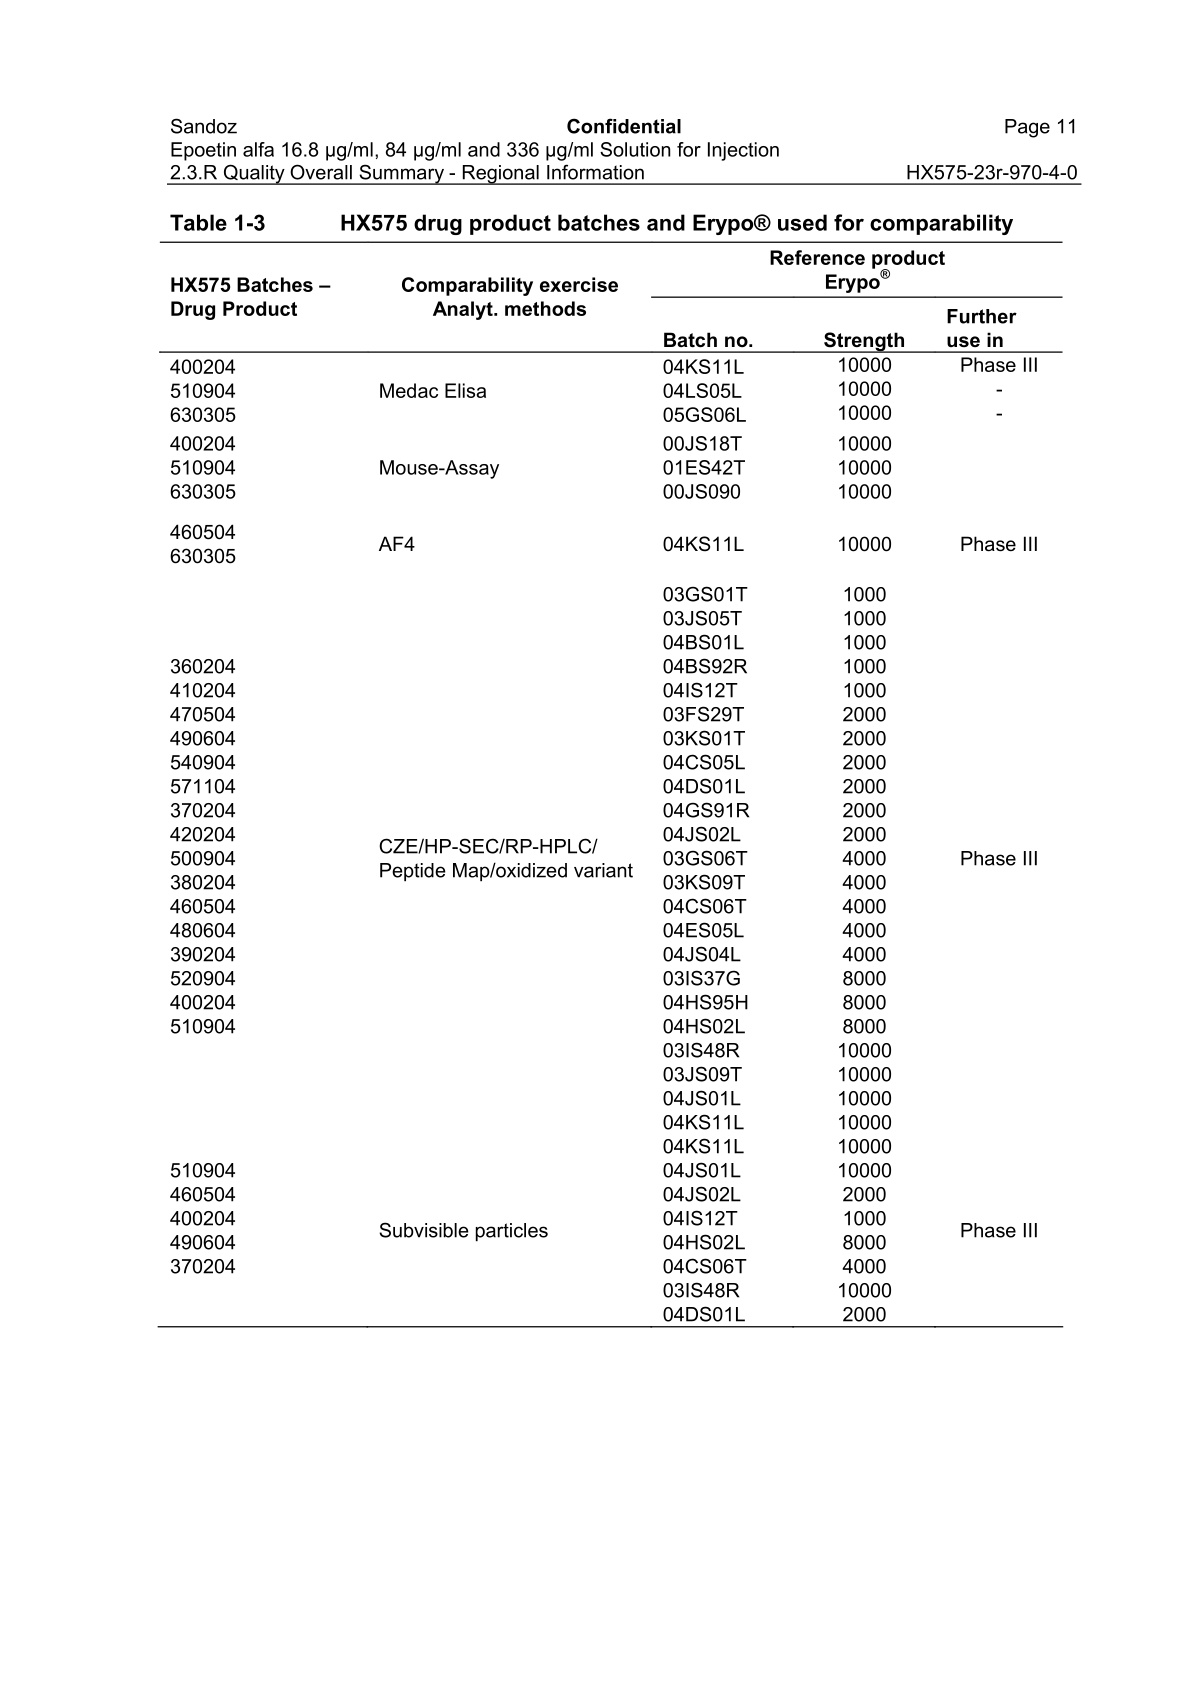partial_lined_merged_cells: (159, 238, 1065, 1330)
